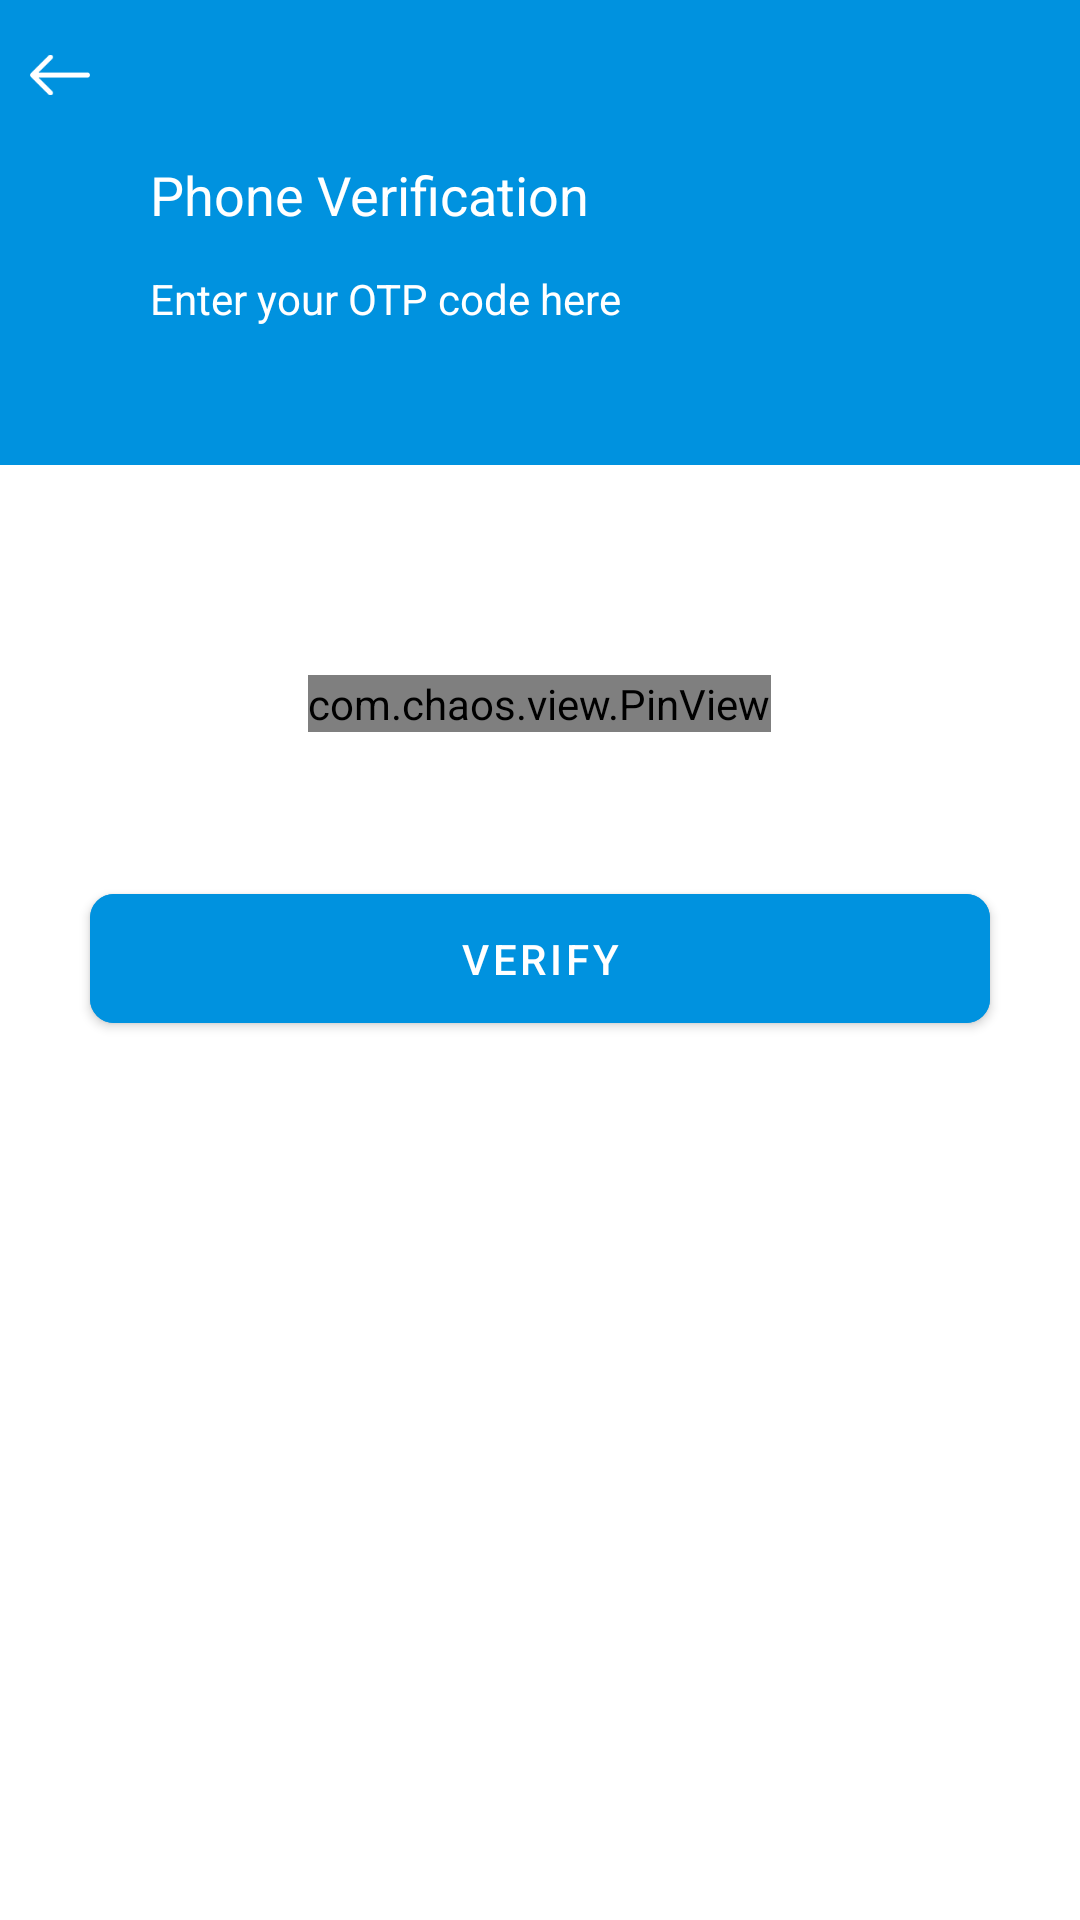

Point at icon controls on the screen. Image size 1080px×1920px, points as [x,y].
back: [60,75]
